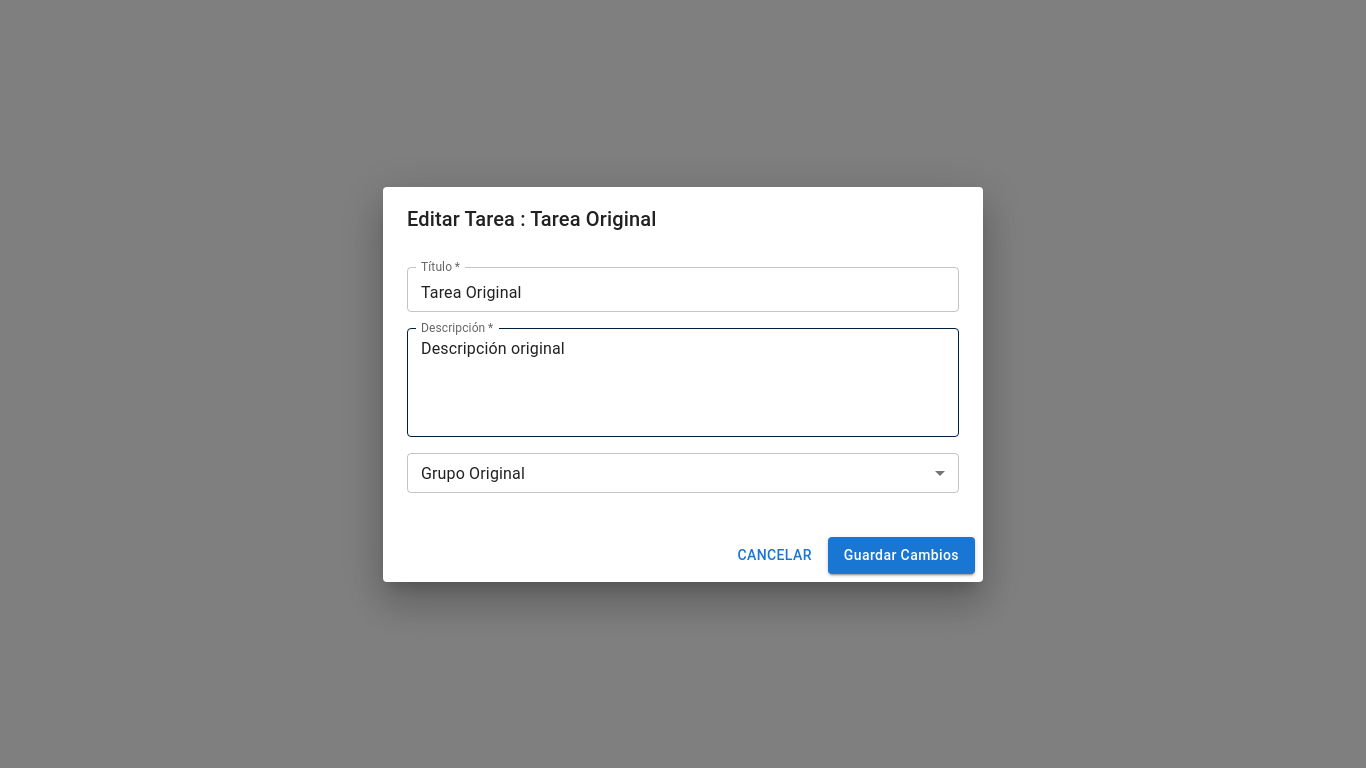
EditAssignmentDialog Component › debería cerrar el diálogo de error
What coordinates should you click on to do the following:
click the button "Guardar Cambios"
I would click on:
 (901, 555)
Its box is x1=828 y1=537 x2=975 y2=574.
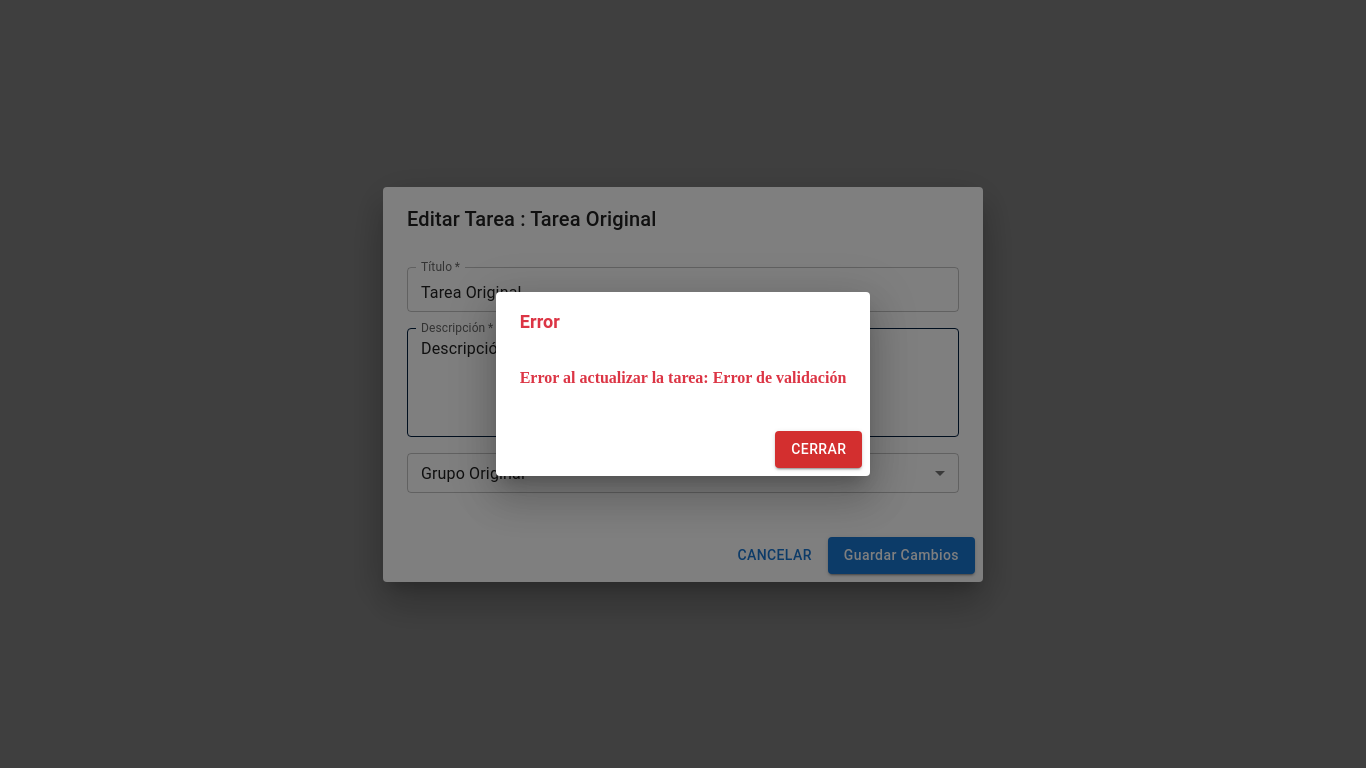
What coordinates should you click on to do the following:
click the button "Cerrar"
I would click on:
 (819, 449)
Its box is x1=775 y1=431 x2=862 y2=468.
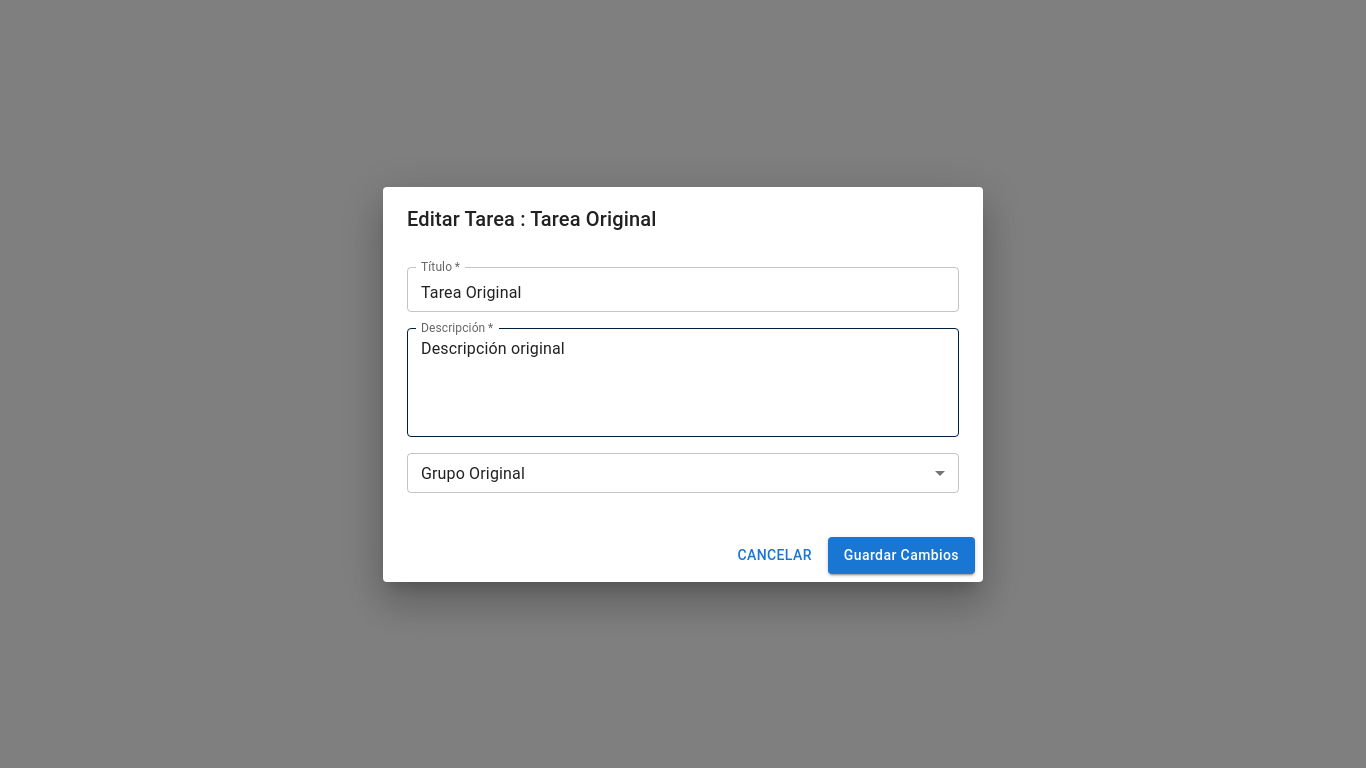
expect the heading "Error" is gone: met
